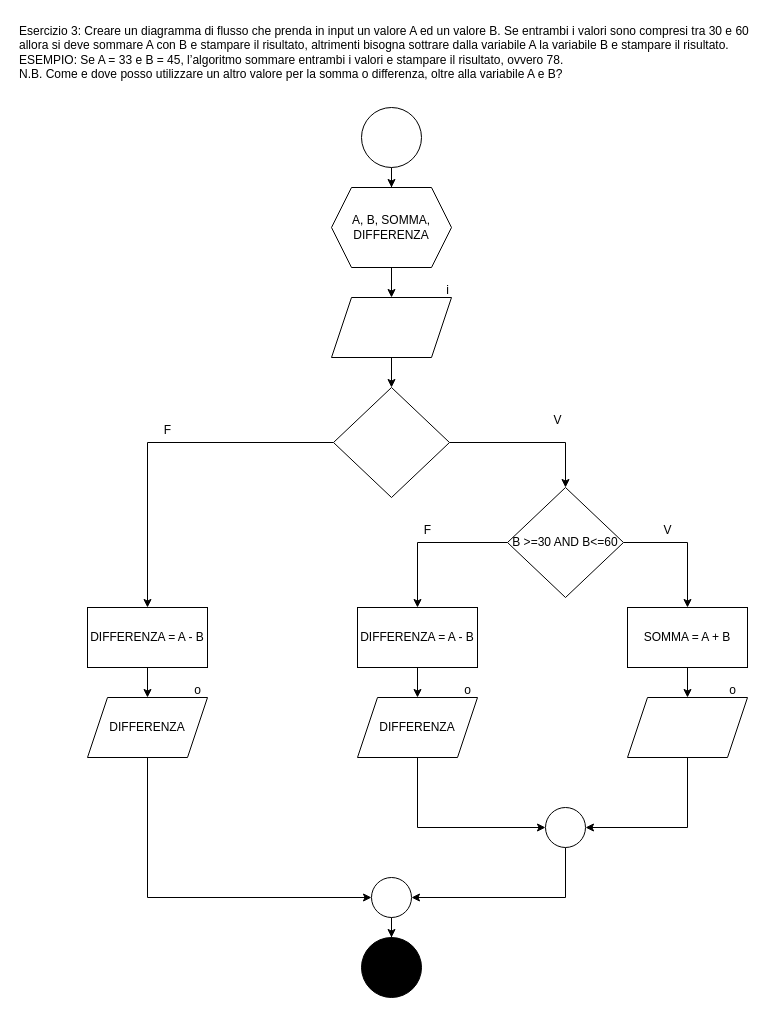
This 774x1015 diagram has some shape labels left out. Each missing label, with the centre of its shape:
A >=30 AND A<=60: the point at 391,442
A, B: the point at 391,327
SOMMA: the point at 687,727
